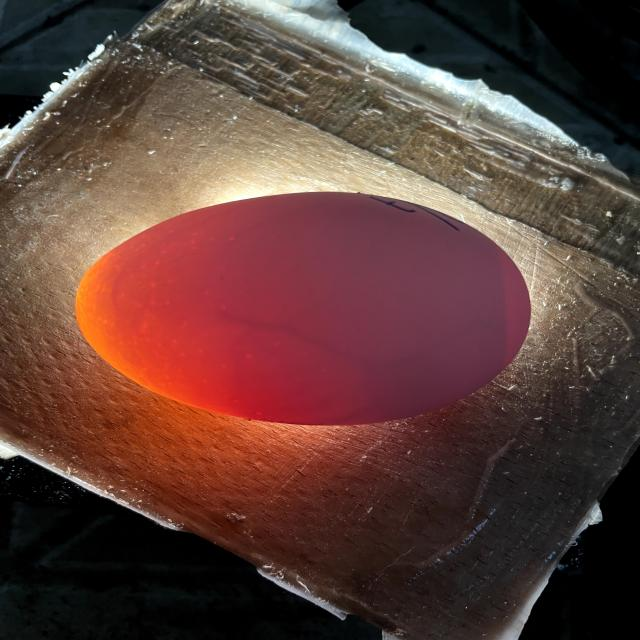fertile: (75, 191, 530, 425)
